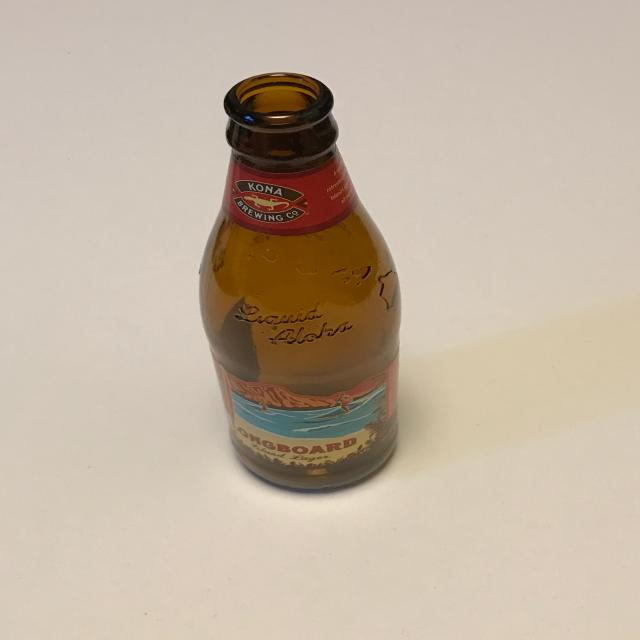glass: (197, 71, 403, 493)
